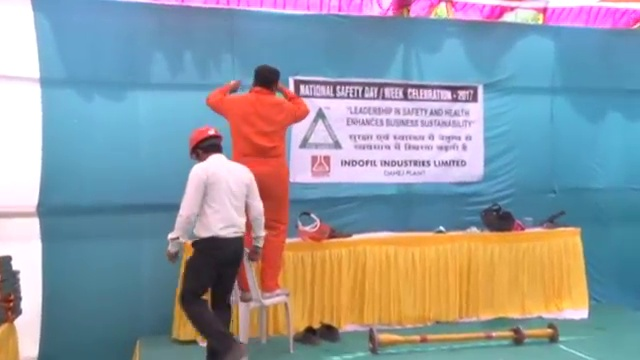helmet: (188, 126, 224, 154)
helmet_off: (251, 64, 280, 96)
helmet_on: (188, 125, 227, 165)
person: (207, 63, 312, 303), (166, 126, 264, 360)
